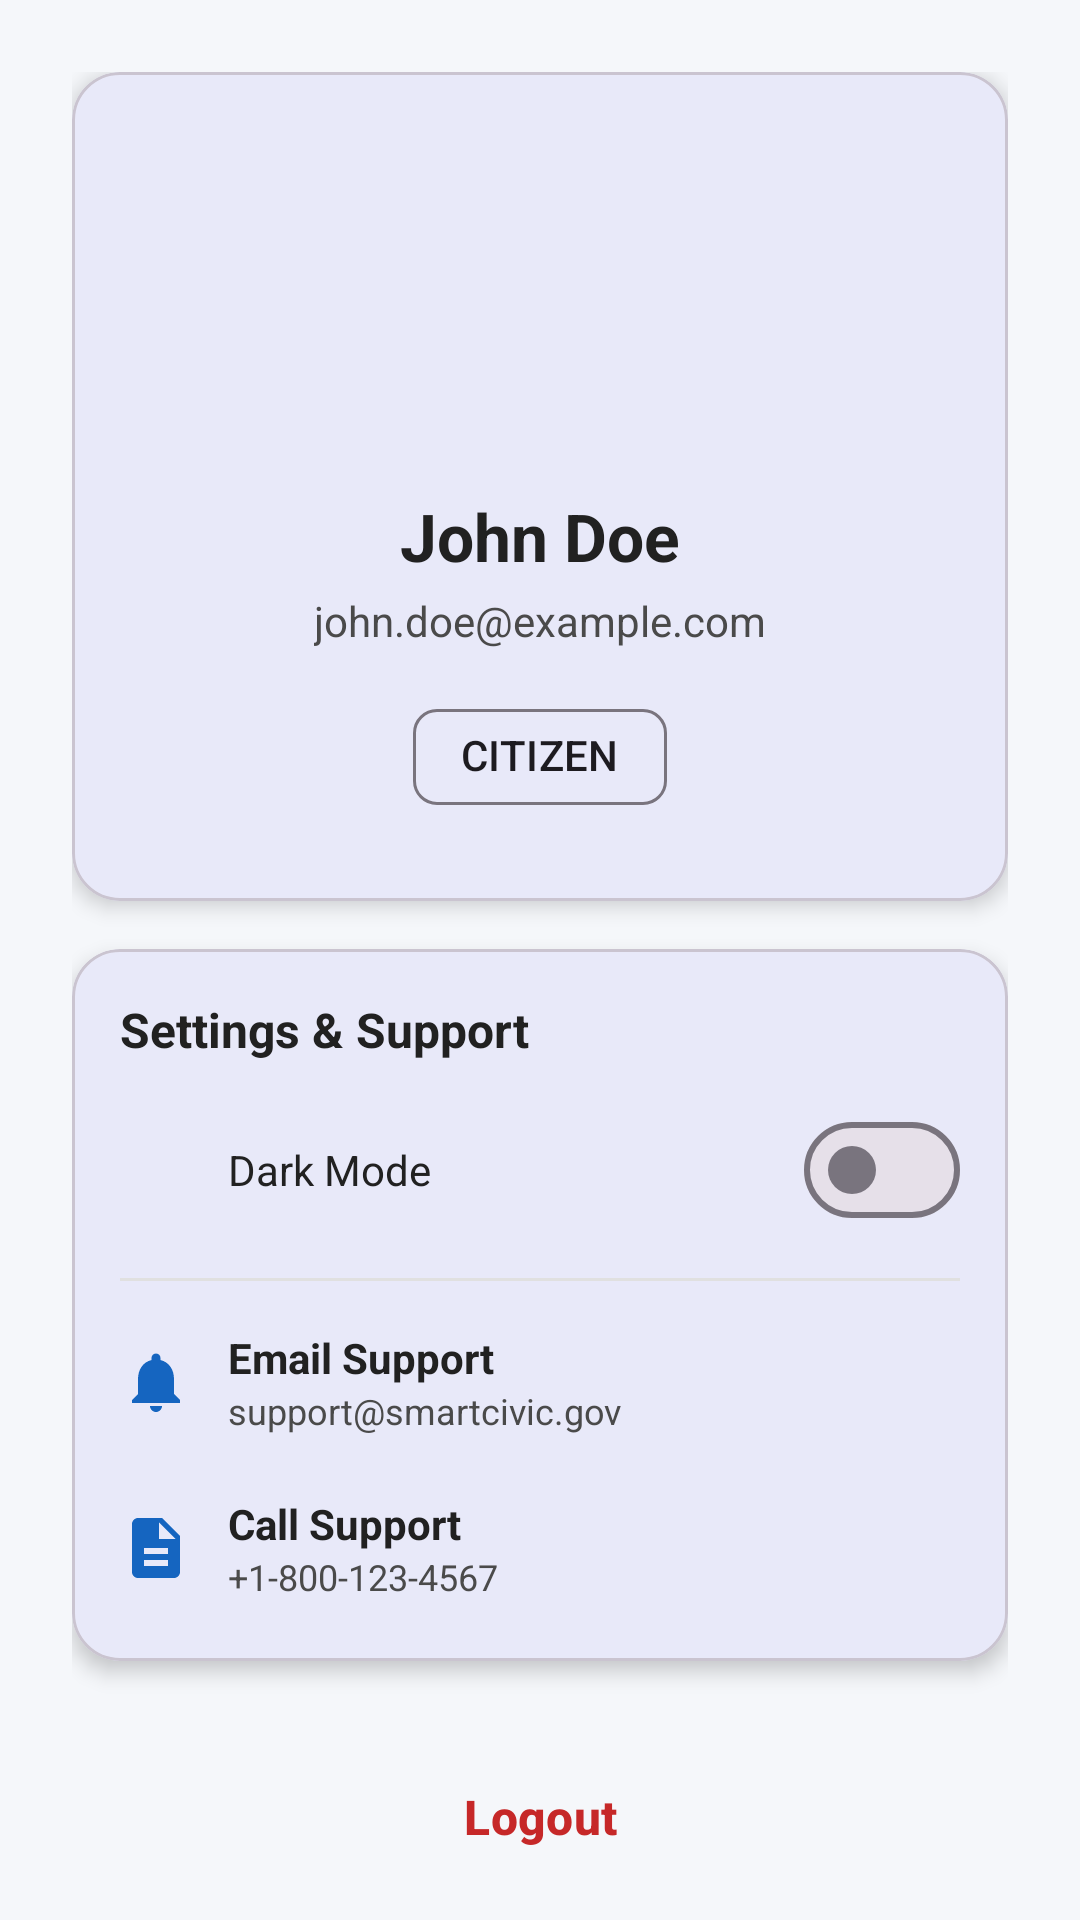

Named icons in this screenshot (1080 × 1920) and their centers, [x,y]:
notifications: [156,1382]
